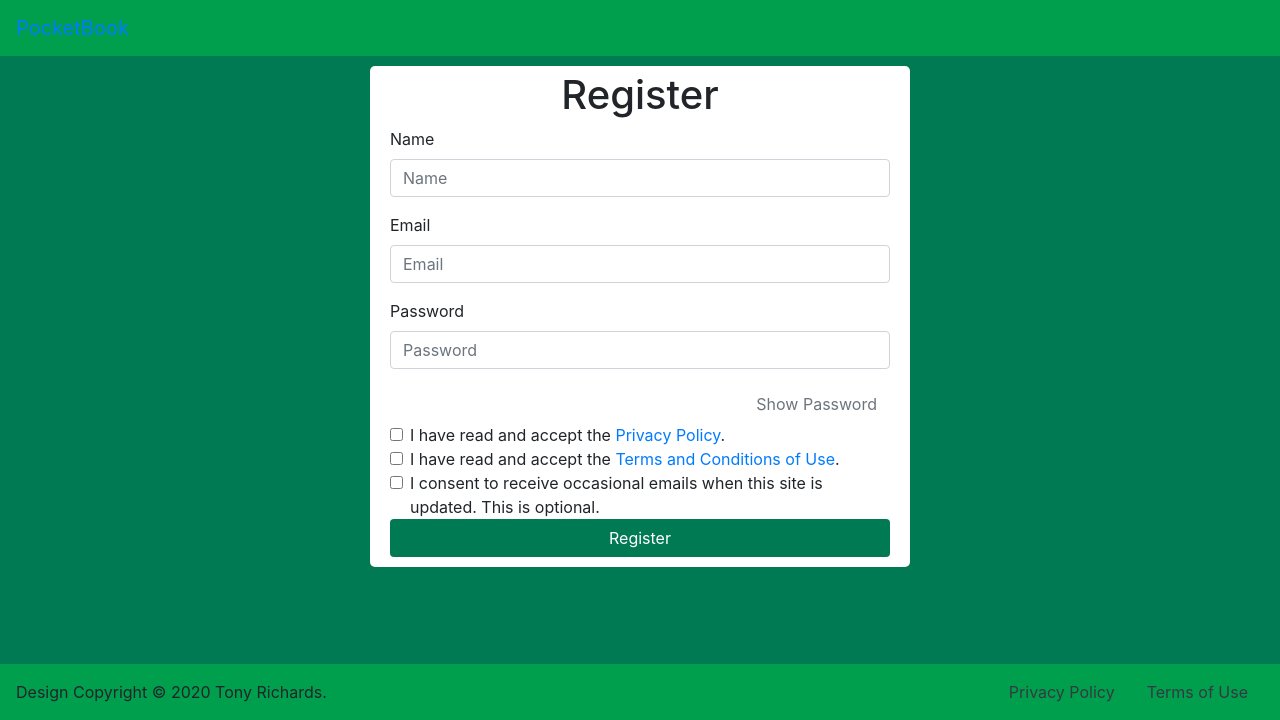
Register Page › declares non-SJA email invalid
The width and height of the screenshot is (1280, 720).
Step 1. Type "test@gmail.com" into the field labelled "Email" → point(640, 264), box [390,245,890,283]
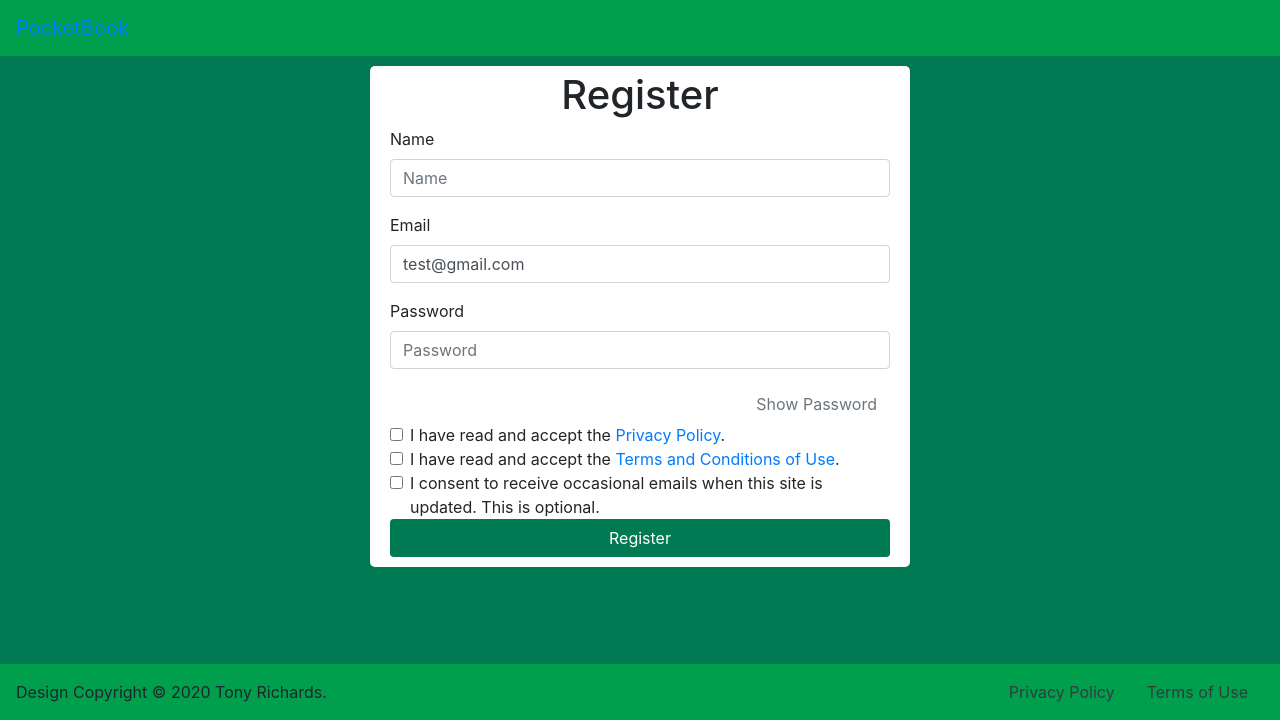
Step 2. Click the button "Register" → point(640, 538), box [390,519,890,557]
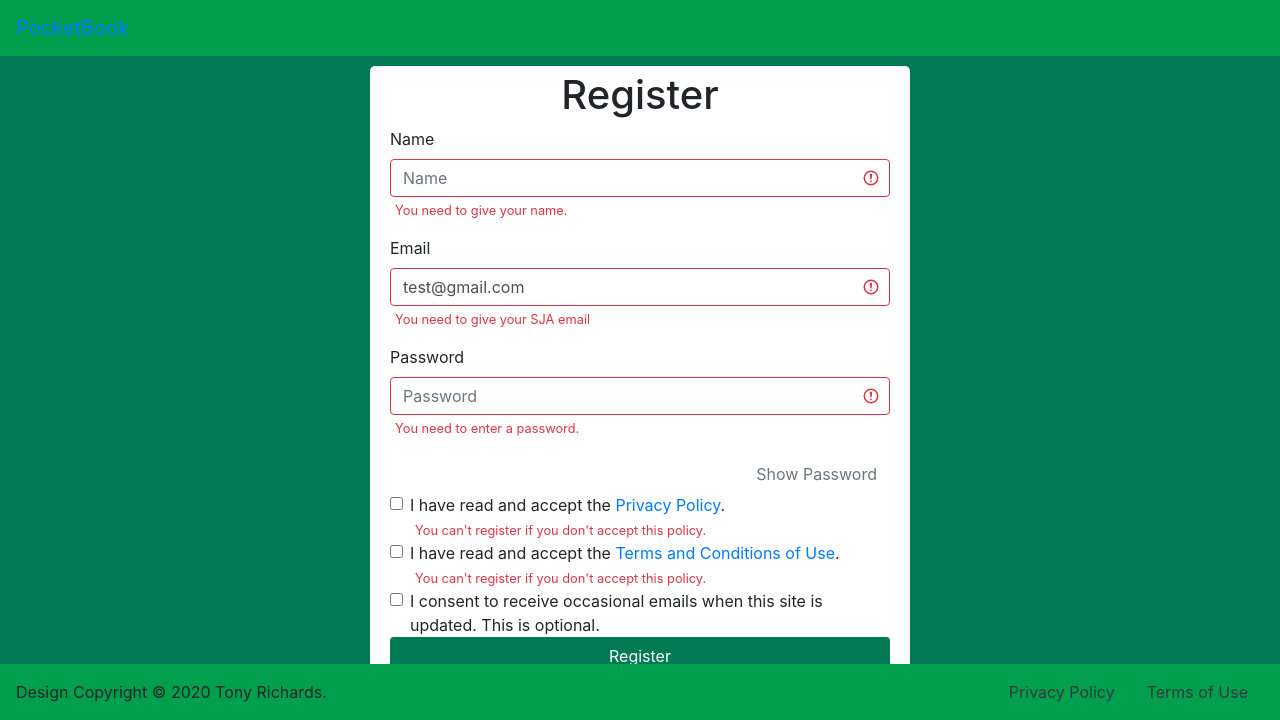
Result: the text "You need to give your SJA email" is shown at [395,312,590,327]
